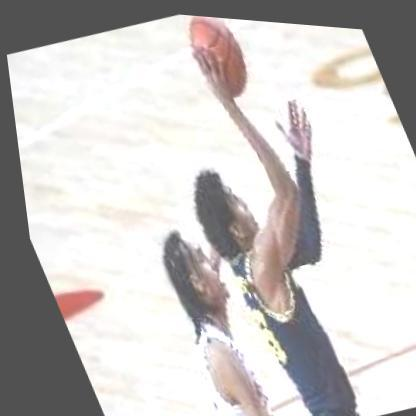basketball: (174, 11, 261, 104)
